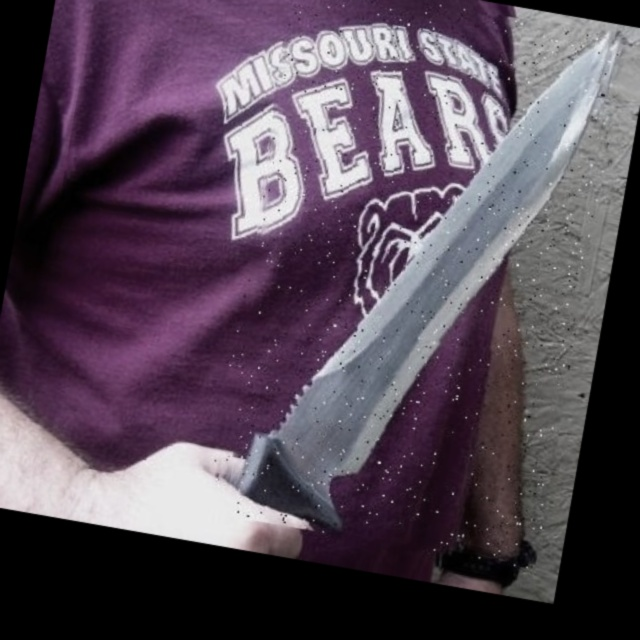Sharp-Object: (204, 0, 627, 569)
